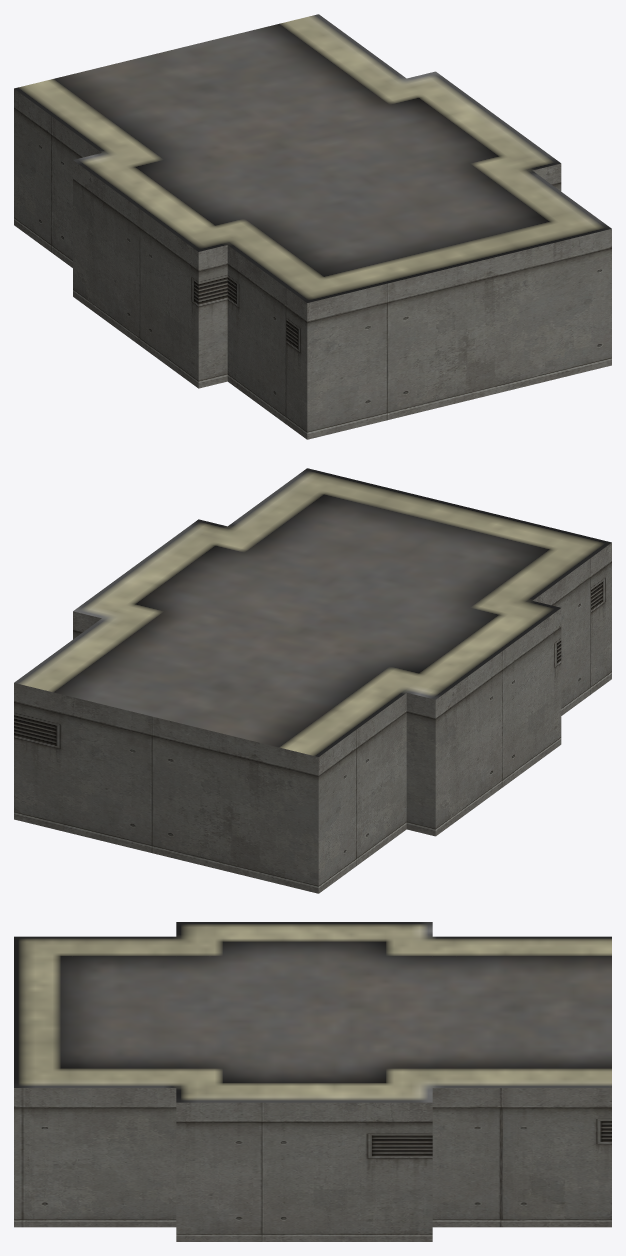
File: building_medium_01.glb
3 views of the same model, one above another, from view 1: azimuth 30°, elevation 25°; view 2: azimuth 150°, elevation 25°; view 3: azimuth 270°, elevation 25° (orthographic).
Visible parts, largest first — view 1: buildings/saxarba/building_medium/building_medium_01; view 2: buildings/saxarba/building_medium/building_medium_01; view 3: buildings/saxarba/building_medium/building_medium_01.
Boxes of the visible parts, <box> form: buildings/saxarba/building_medium/building_medium_01: <box>14,14,611,439</box>; buildings/saxarba/building_medium/building_medium_01: <box>14,468,611,893</box>; buildings/saxarba/building_medium/building_medium_01: <box>14,922,611,1241</box>.
Bounding box in the file's own units: 50 × 18 × 70.
